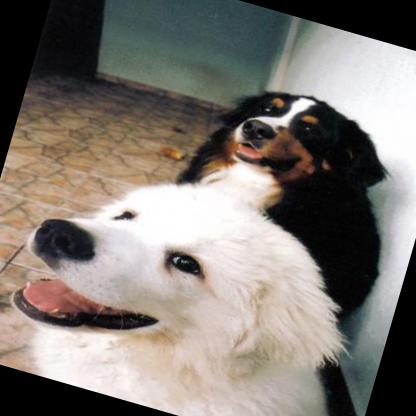kuvasz: (0, 137, 398, 416)
